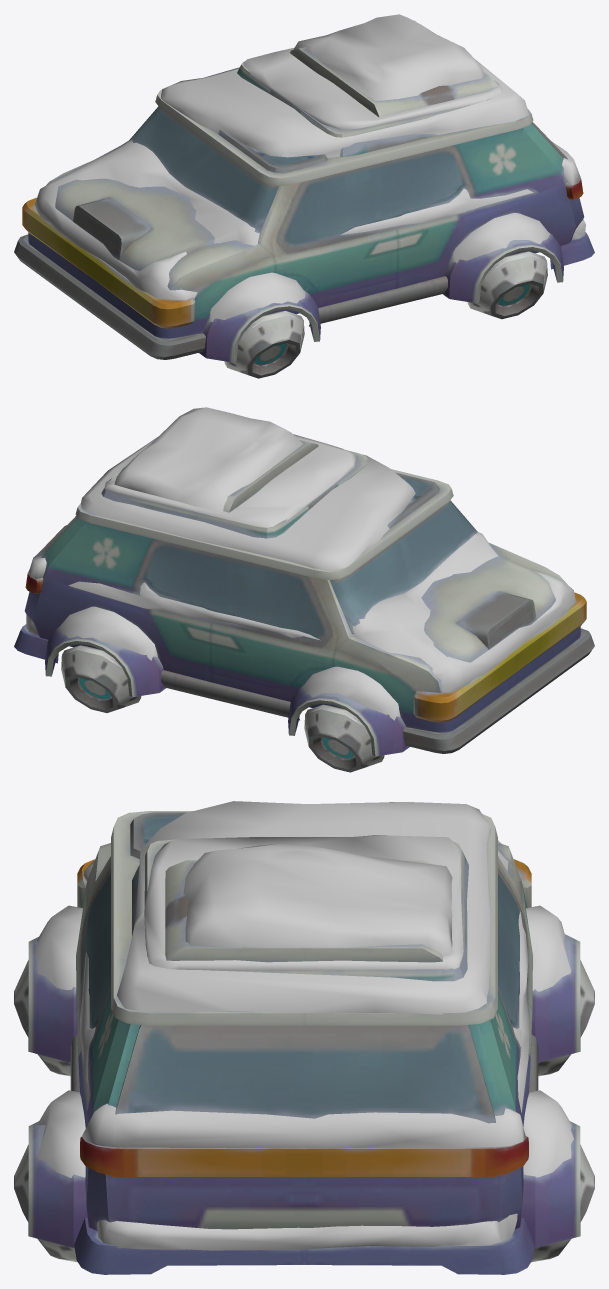
File: pref_sm_city_car02_snow_lv3.fbx
3 renders of one model, top to bottom at view 1: azimuth 30°, elevation 25°; view 2: azimuth 150°, elevation 25°; view 3: azimuth 270°, elevation 25°, orthographic. The views are drawn at different scales.
Visible parts, largest first — view 1: sm_city_car02_snow_lv3, sm_city_car02b_snow_lv3; view 2: sm_city_car02_snow_lv3, sm_city_car02b_snow_lv3; view 3: sm_city_car02_snow_lv3, sm_city_car02b_snow_lv3.
Boxes of the visible parts, <box> form: sm_city_car02_snow_lv3: <box>14,20,594,378</box>; sm_city_car02b_snow_lv3: <box>35,14,585,322</box>; sm_city_car02_snow_lv3: <box>14,440,594,772</box>; sm_city_car02b_snow_lv3: <box>26,407,575,720</box>; sm_city_car02_snow_lv3: <box>14,811,594,1274</box>; sm_city_car02b_snow_lv3: <box>35,801,573,1250</box>.
Bounding box in the file's own units: 5.34 × 2.62 × 3.87.
